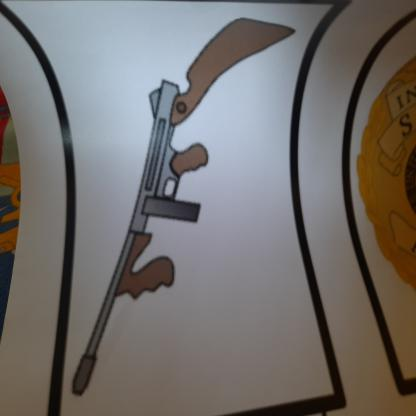Bootlegger: (66, 11, 302, 416)
